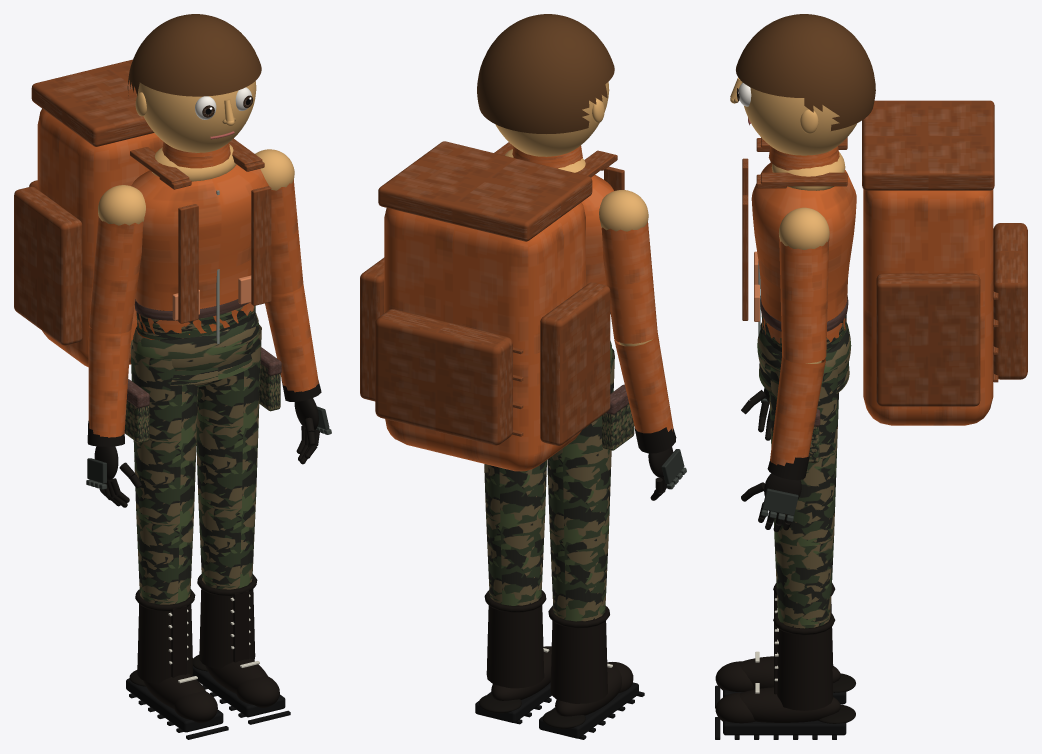
File: 07-gros-sac-militaire.glb
3 views of the same model, side by side, from view 1: azimuth 30°, elevation 25°; view 2: azimuth 150°, elevation 25°; view 3: azimuth 270°, elevation 25° (orthographic). The views are drawn at different scales.
Size of the model in its own units: 0.6344 by 1.77 by 0.7227.
Materials: 26 (5 with a texture image).
